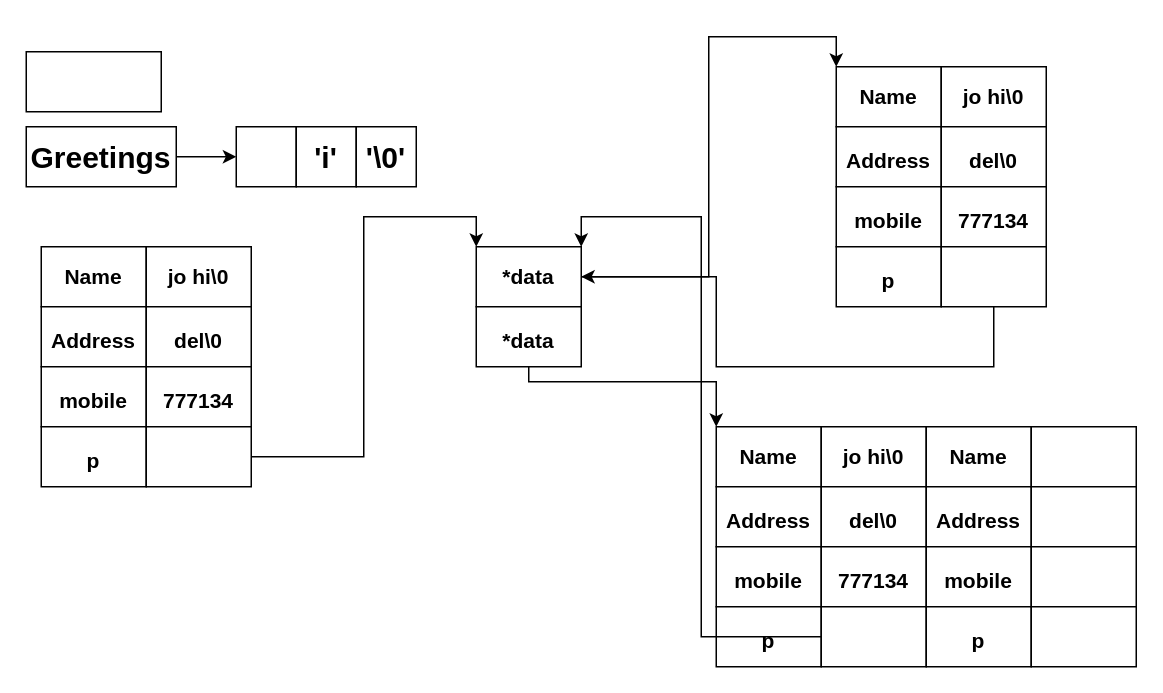
Image size: 1163x693. Some labels were removed from this diagram. The centre of each missing label's shape, as x and y in pixels:
"'h'" belongs at (265,156).
"int k = 2" belongs at (93,81).
